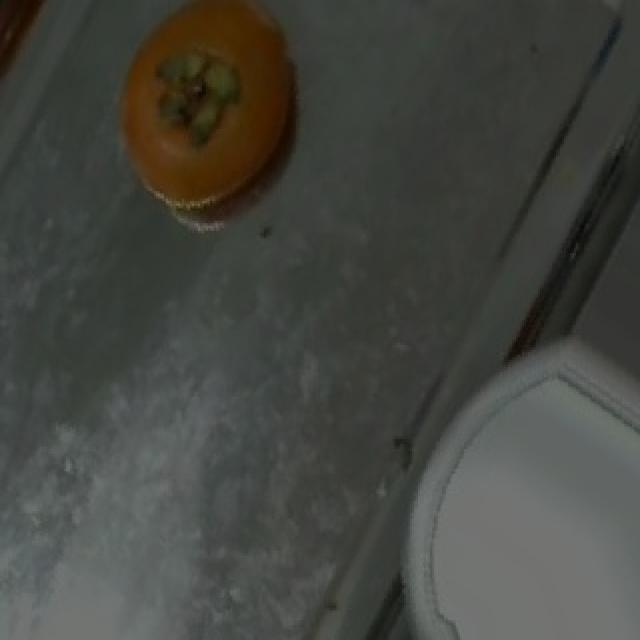Fruit: (86, 0, 326, 233)
